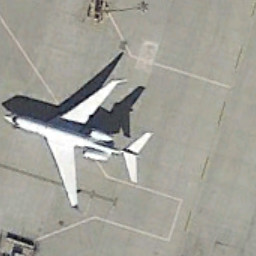Airplane: (2, 72, 157, 212)
